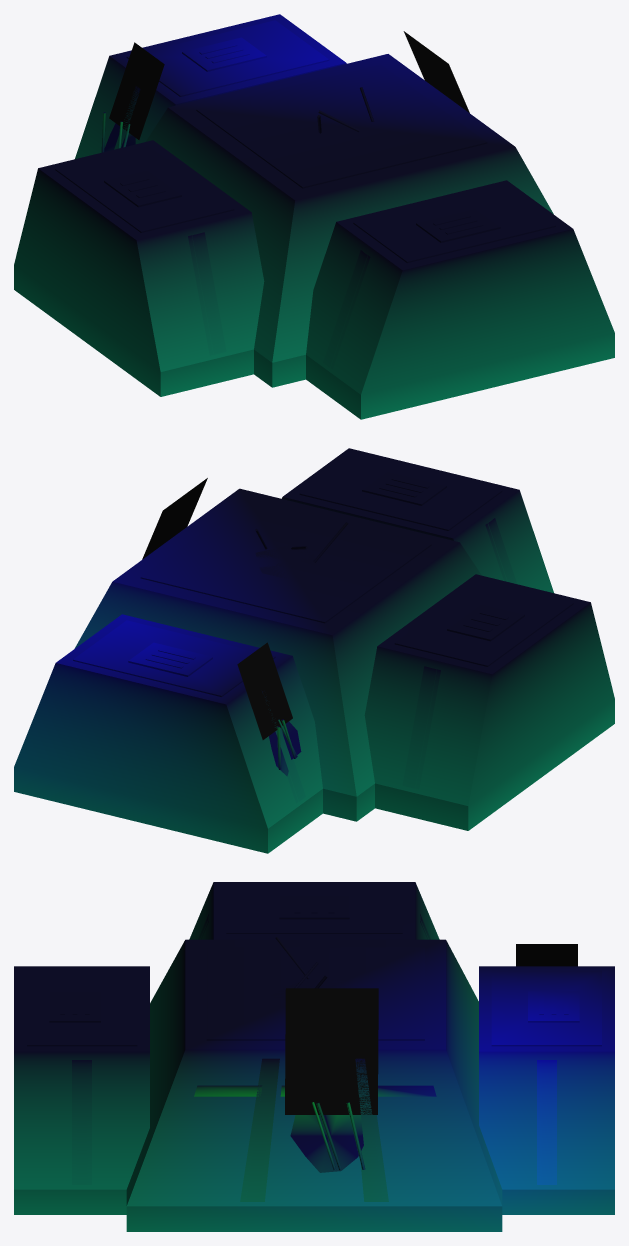
The model's file is hpg_threeway_damaged.glb.
3 views of the same model, one above another, from view 1: azimuth 30°, elevation 25°; view 2: azimuth 150°, elevation 25°; view 3: azimuth 270°, elevation 25° (orthographic). The views are drawn at different scales.
Visible parts, largest first — view 1: lod0; view 2: lod0; view 3: lod0.
Part boxes in pixels (box(x1,y1,x2,y2)): lod0: box(14, 14, 614, 419); lod0: box(14, 448, 614, 853); lod0: box(14, 882, 614, 1231).
Size of what is drawn, in the model's own units: 20.92 by 9.87 by 25.6.
